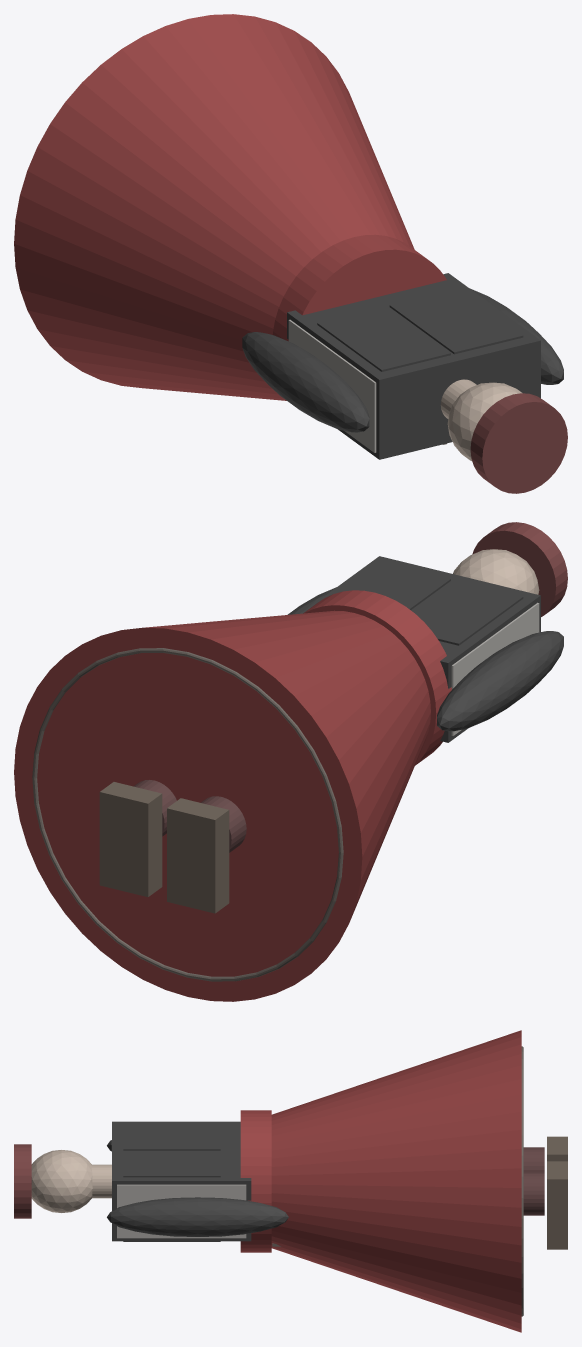
Rendered from MASTER_015_STAGE3_DETAIL.glb.
3 views of the same model, one above another, from view 1: azimuth 30°, elevation 25°; view 2: azimuth 150°, elevation 25°; view 3: azimuth 270°, elevation 25° (orthographic). The views are drawn at different scales.
Visible parts, largest first — view 1: slot_lower_main__fund_i_gjatë, slot_upper_inner__këmishë, slot_waist__brez, slot_headwear__mbulesë_koke, slot_upper_inner_sleeve_L, slot_upper_outer__jelek/xhamadan_L, slot_upper_outer__jelek/xhamadan_R, mannequin_torso, mannequin_head, slot_upper_inner_sleeve_R; view 2: slot_lower_main__fund_i_gjatë, slot_footwear__opinga_R, slot_footwear__opinga_L, slot_upper_inner_sleeve_L, detail_skirt_hem, slot_waist__brez, slot_upper_outer__jelek/xhamadan_L, slot_headwear__mbulesë_koke, slot_upper_inner__këmishë, slot_upper_outer__jelek/xhamadan_R, mannequin_head, mannequin_torso (+2 smaller); view 3: slot_lower_main__fund_i_gjatë, slot_upper_inner_sleeve_R, slot_upper_inner__këmishë, mannequin_head, slot_waist__brez, slot_upper_outer__jelek/xhamadan_R, mannequin_torso, slot_upper_outer__jelek/xhamadan_L, slot_footwear__opinga_R, slot_headwear__mbulesë_koke, slot_legwear__çorape_R, detail_skirt_hem (+3 smaller).
Boxes of the visible parts, <box> form: slot_lower_main__fund_i_gjatë: <box>14,14,414,400</box>; slot_upper_inner__këmishë: <box>287,273,540,459</box>; slot_waist__brez: <box>273,234,446,341</box>; slot_headwear__mbulesë_koke: <box>470,393,567,493</box>; slot_upper_inner_sleeve_L: <box>242,332,369,432</box>; slot_upper_outer__jelek/xhamadan_L: <box>317,306,450,371</box>; slot_upper_outer__jelek/xhamadan_R: <box>389,288,523,354</box>; mannequin_torso: <box>288,319,376,452</box>; mannequin_head: <box>447,382,522,460</box>; slot_upper_inner_sleeve_R: <box>470,288,563,384</box>; slot_lower_main__fund_i_gjatë: <box>14,610,430,1001</box>; slot_footwear__opinga_R: <box>99,782,162,896</box>; slot_footwear__opinga_L: <box>167,798,229,913</box>; slot_upper_inner_sleeve_L: <box>437,631,563,731</box>; detail_skirt_hem: <box>32,648,343,981</box>; slot_waist__brez: <box>303,590,451,765</box>; slot_upper_outer__jelek/xhamadan_L: <box>412,579,523,645</box>; slot_headwear__mbulesë_koke: <box>472,522,567,616</box>; slot_upper_inner__këmishë: <box>301,556,540,742</box>; slot_upper_outer__jelek/xhamadan_R: <box>341,562,450,609</box>; mannequin_head: <box>453,549,539,594</box>; mannequin_torso: <box>451,602,539,735</box>; slot_lower_main__fund_i_gjatë: <box>271,1030,521,1332</box>; slot_upper_inner_sleeve_R: <box>107,1197,288,1236</box>; slot_upper_inner__këmishë: <box>112,1121,251,1241</box>; mannequin_head: <box>31,1150,92,1212</box>; slot_waist__brez: <box>240,1110,271,1252</box>; slot_upper_outer__jelek/xhamadan_R: <box>123,1150,220,1241</box>; mannequin_torso: <box>117,1184,246,1238</box>; slot_upper_outer__jelek/xhamadan_L: <box>123,1124,220,1150</box>; slot_footwear__opinga_R: <box>547,1161,567,1249</box>; slot_headwear__mbulesë_koke: <box>14,1144,31,1218</box>; slot_legwear__çorape_R: <box>523,1172,544,1215</box>; detail_skirt_hem: <box>521,1046,523,1316</box>.
Bounding box in the file's own units: 0.9355 × 0.9355 × 1.71.
